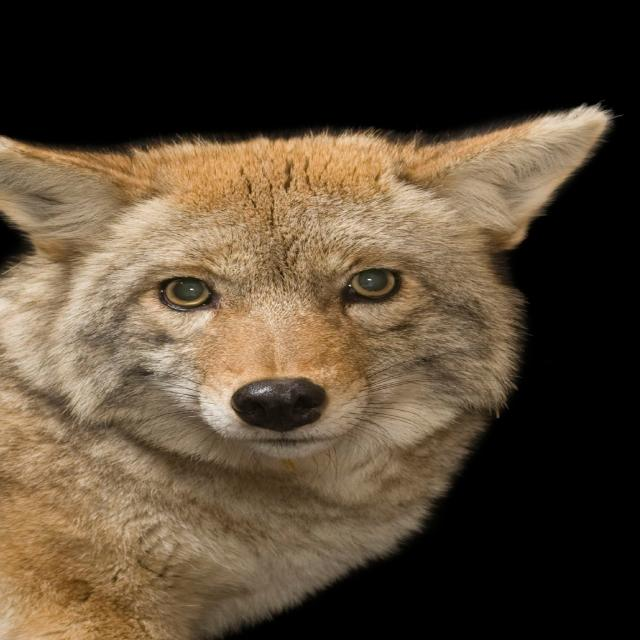Coyote: (0, 101, 616, 640)
